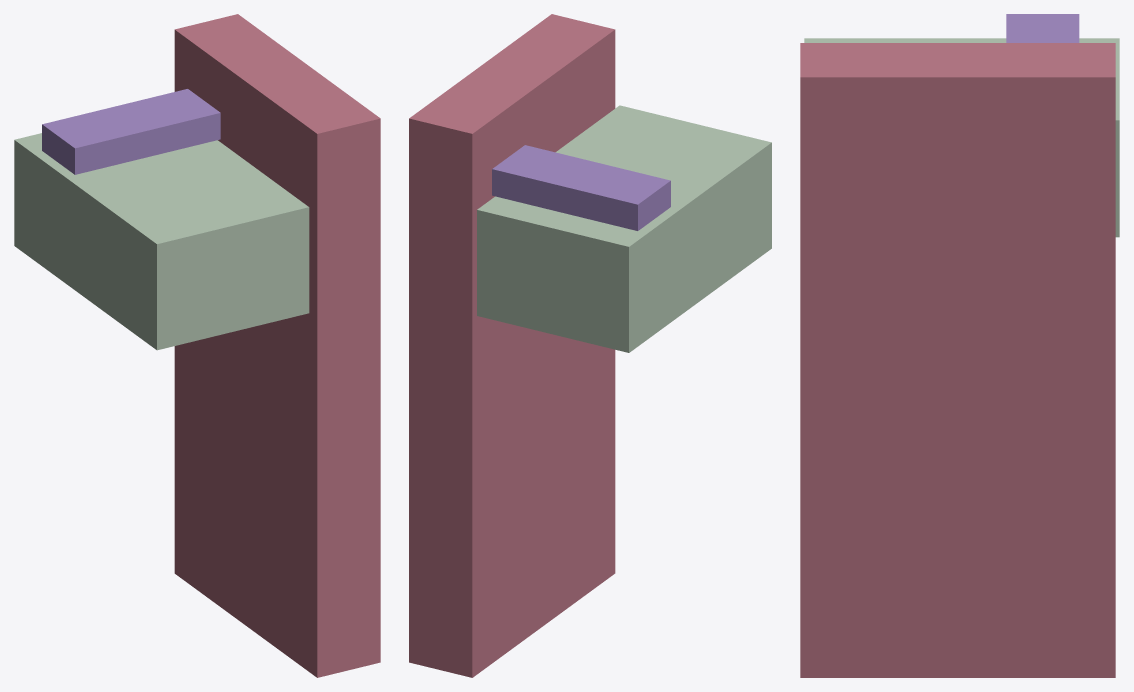
3 renders of one model, left to right at view 1: azimuth 30°, elevation 25°; view 2: azimuth 150°, elevation 25°; view 3: azimuth 270°, elevation 25°, orthographic. The views are drawn at different scales.
Visible parts, largest first — view 1: world; view 2: world; view 3: world.
Part boxes in pixels (x1,y1,x2,y2): world: (14,14,380,677); world: (409,14,771,677); world: (800,14,1119,677).
Size of the model in its own units: 3.5 by 8.2 by 3.95.
